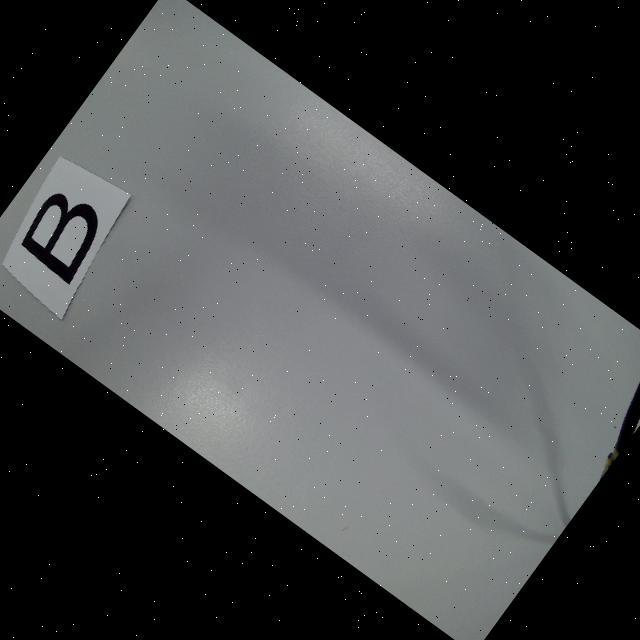FAKE: (12, 182, 114, 285)
